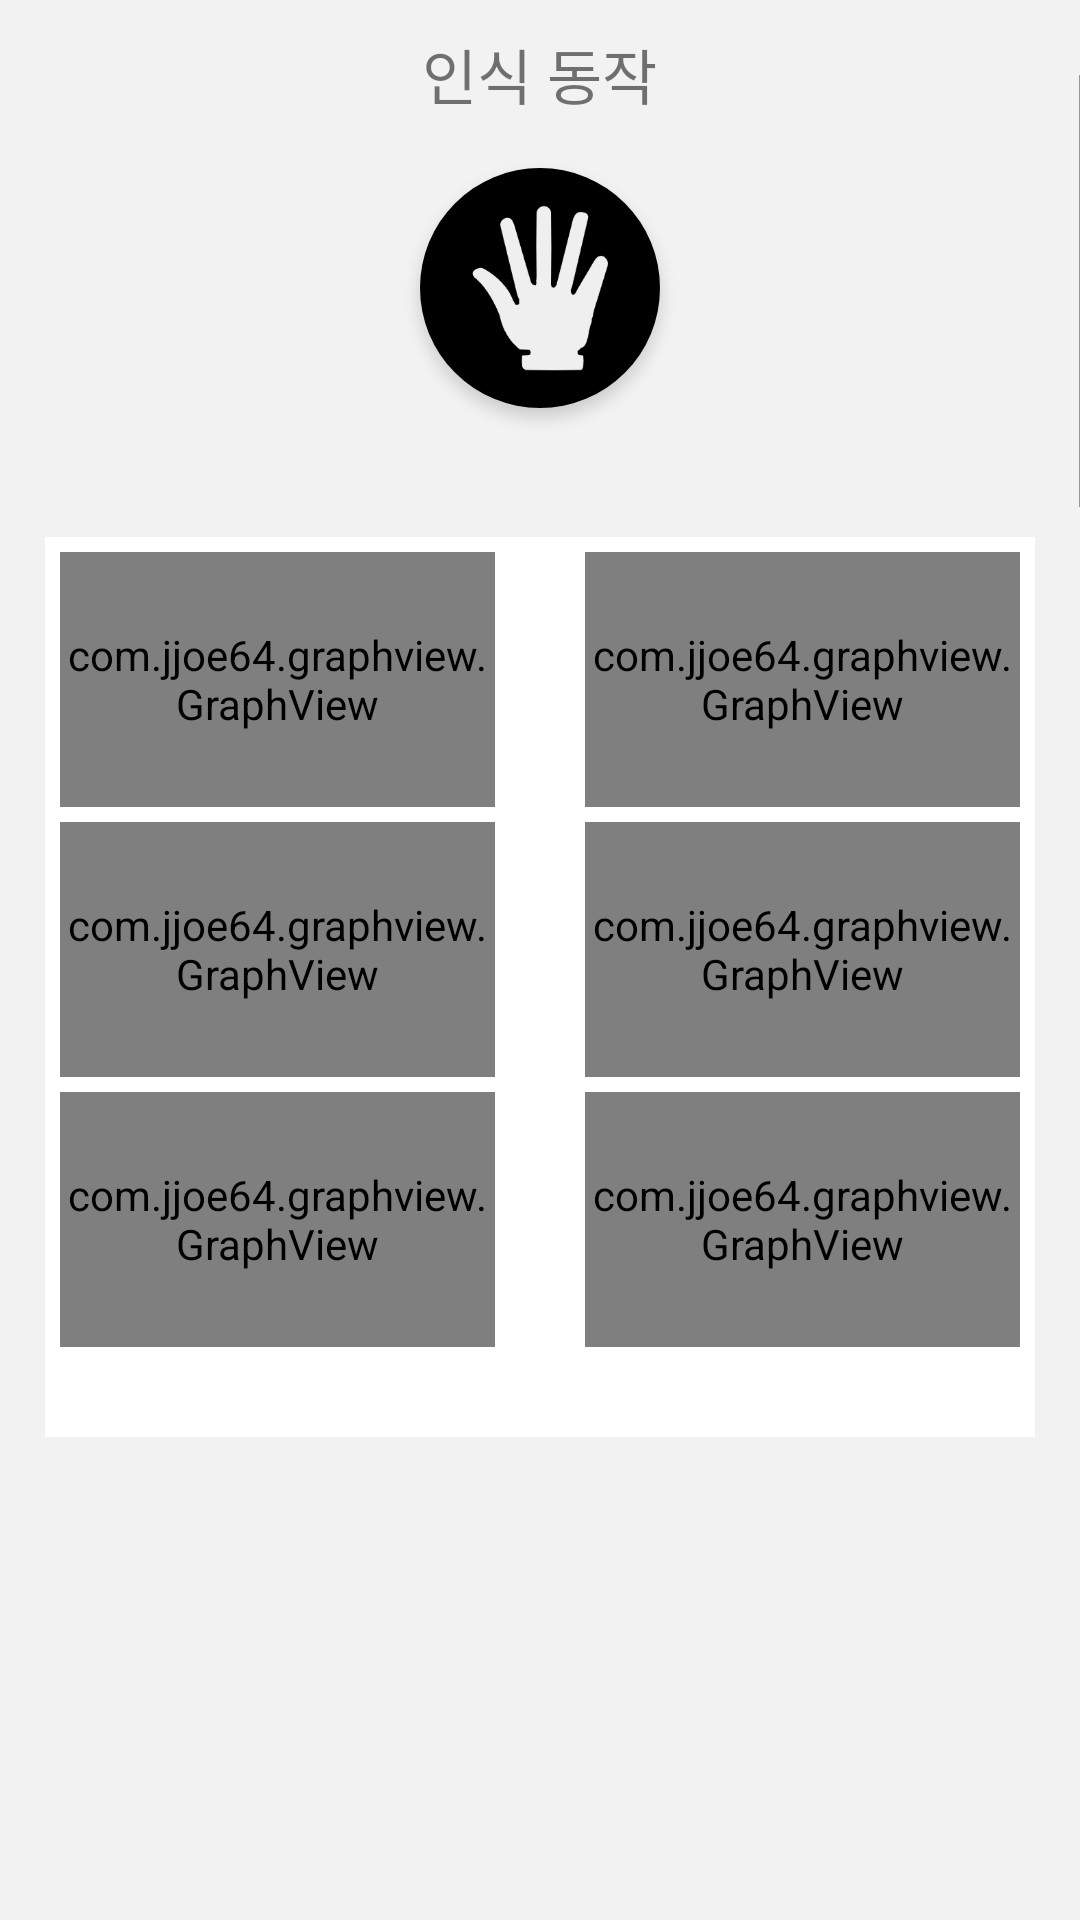

Icons on this 1080×1920 Android screen, each with its box as BBox(x1, y1, x2, y2):
hand open: BBox(420, 168, 660, 414)
